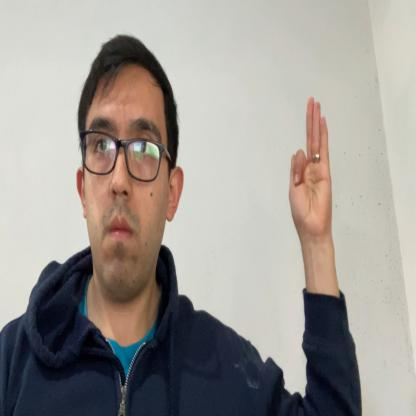F: (288, 95, 332, 238)
